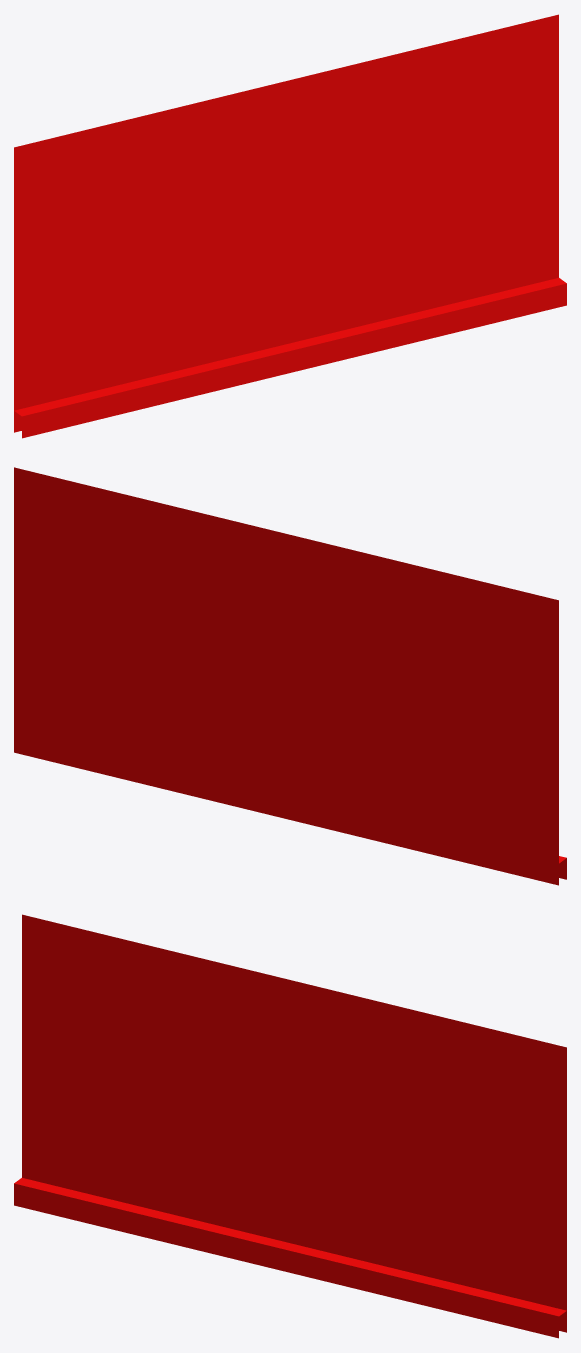
Rendered from Sewer_Wall_Double.FBX.
3 renders of one model, top to bottom at view 1: azimuth 30°, elevation 25°; view 2: azimuth 150°, elevation 25°; view 3: azimuth 330°, elevation 25°, orthographic.
Parts seen in each view (by area): view 1: Sewer_Wall_Double; view 2: Sewer_Wall_Double; view 3: Sewer_Wall_Double.
Part boxes in pixels (x1,y1,x2,y2): Sewer_Wall_Double: (14,14,566,438); Sewer_Wall_Double: (14,467,566,885); Sewer_Wall_Double: (14,914,566,1338).
Bounding box in the file's own units: 400 × 200 × 10.
